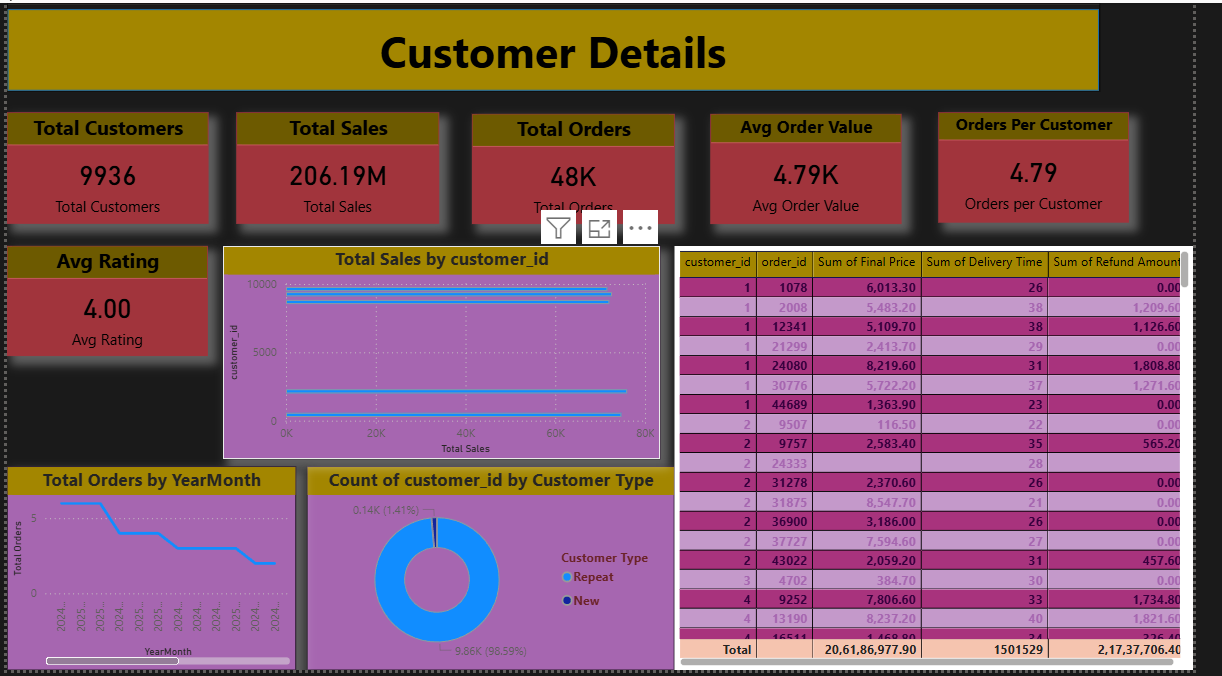

The dashboard page shown, as its layout file describes it:
{"tool":"powerbi","page":{"name":"Customer Details","canvas":[1280,720],"ordinal":0},"visuals":[{"type":"card","title":"Total Sales","fields":{"Values":["All_measures.Total Sales"]},"box":[247.1,118.6,218.6,120],"z":0},{"type":"card","title":"Total Customers","fields":{"Values":["All_measures.Total Customers"]},"box":[0,118.6,217.1,120],"z":1000},{"type":"card","title":"Avg Order Value","fields":{"Values":["All_measures.Avg Order Value"]},"box":[760,120,205.7,118.6],"z":2000},{"type":"card","title":"Total Orders","fields":{"Values":["All_measures.Total Orders"]},"box":[501.4,120,218.6,118.6],"z":3000},{"type":"donutChart","fields":{"Category":["customers.Customer Type"],"Y":["CountNonNull(customers.customer_id)"]},"box":[323.3,500,396.7,220],"z":4000},{"type":"clusteredBarChart","fields":{"Category":["customers.customer_id"],"Y":["All_measures.Total Sales"]},"box":[233.3,261.7,471.7,230],"z":5000},{"type":"lineChart","fields":{"Y":["All_measures.Total Orders"],"Category":["orders.YearMonth"]},"box":[0,500,311.7,220],"z":6000},{"type":"tableEx","fields":{"Values":["orders.customer_id","orders.order_id","Sum(order_details.Final Price)","Sum(orders.Delivery Time)","Sum(order_details.Refund Amount)"]},"box":[720,261.7,560,458.3],"z":7000},{"type":"card","title":"Orders Per Customer","fields":{"Values":["All_measures.Orders per Customer"]},"box":[1005,118.3,205,118.3],"z":8000},{"type":"card","title":"Avg Rating","fields":{"Values":["All_measures.Avg Rating"]},"box":[0,261.7,216.7,118.3],"z":9000},{"type":"shape","box":[0,0,1180,95],"z":10000}]}

Visuals, with their boxes in screenshot pixels (x1, y1, x2, y2), scaled from the page's 1280x720 canvas onto the 1222x676 screenshot:
"Total Sales" card: box=[236, 111, 445, 224]
"Total Customers" card: box=[0, 111, 207, 224]
"Avg Order Value" card: box=[726, 113, 922, 224]
"Total Orders" card: box=[479, 113, 687, 224]
donutChart - customers.Customer Type x CountNonNull(customers.customer_id): box=[309, 469, 687, 675]
clusteredBarChart - customers.customer_id x All_measures.Total Sales: box=[223, 246, 673, 462]
lineChart - All_measures.Total Orders x orders.YearMonth: box=[0, 469, 298, 675]
tableEx - orders.customer_id x orders.order_id: box=[687, 246, 1221, 675]
"Orders Per Customer" card: box=[959, 111, 1155, 222]
"Avg Rating" card: box=[0, 246, 207, 357]
shape: box=[0, 0, 1127, 89]
